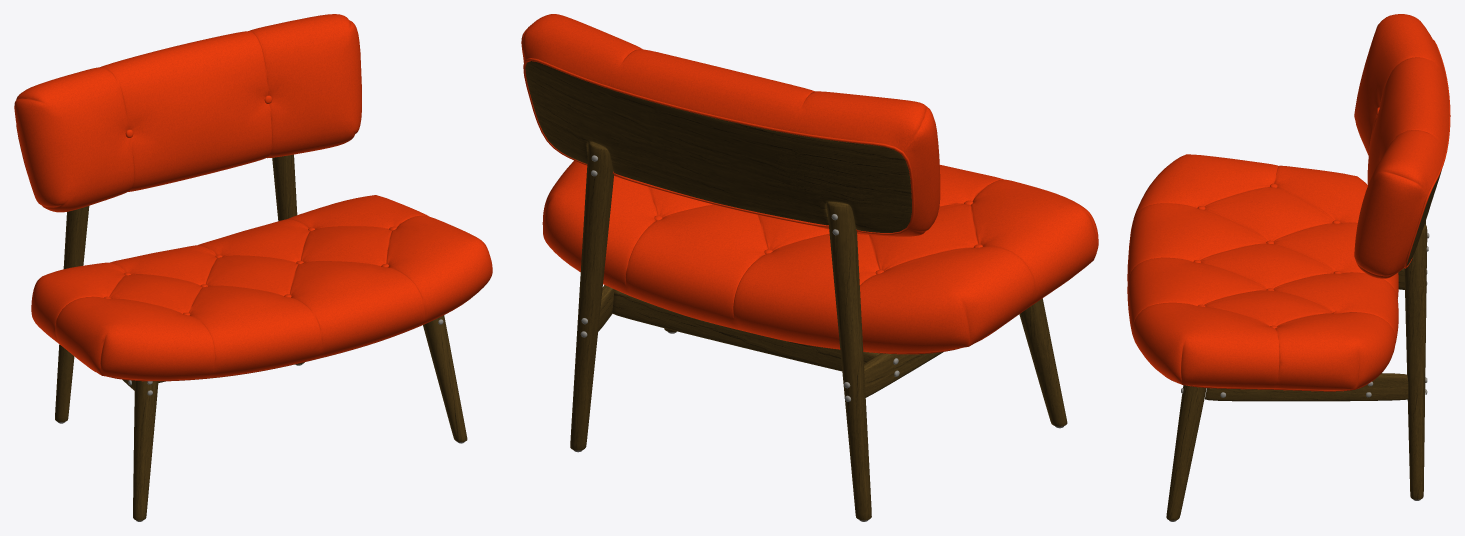
The model's file is SheenChair.glb.
The picture shows the model from 3 angles, left to right: view 1: azimuth 30°, elevation 25°; view 2: azimuth 150°, elevation 25°; view 3: azimuth 270°, elevation 25°; orthographic projection. The views are drawn at different scales.
Visible parts, largest first — view 1: SheenChair_fabric, SheenChair_wood; view 2: SheenChair_fabric, SheenChair_wood; view 3: SheenChair_fabric, SheenChair_wood.
Part boxes in pixels (x1=…): SheenChair_fabric: x1=14, y1=14, x2=492, y2=381; SheenChair_wood: x1=55, y1=154, x2=467, y2=520; SheenChair_fabric: x1=521, y1=14, x2=1098, y2=354; SheenChair_wood: x1=525, y1=61, x2=1067, y2=520; SheenChair_fabric: x1=1127, y1=14, x2=1450, y2=391; SheenChair_wood: x1=1166, y1=170, x2=1441, y2=520.
Size of the model in its own units: 0.8266 by 0.6863 by 0.5702.
4 materials, 3 textured.
